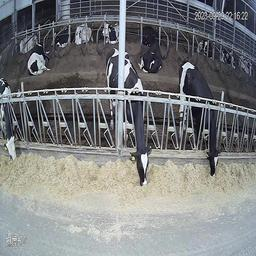cow: (103, 48, 156, 184), (176, 58, 222, 178), (1, 76, 21, 163), (27, 40, 53, 74), (138, 39, 163, 73), (51, 24, 73, 48), (99, 19, 119, 44), (75, 20, 94, 46), (17, 33, 35, 54), (196, 36, 213, 58)
